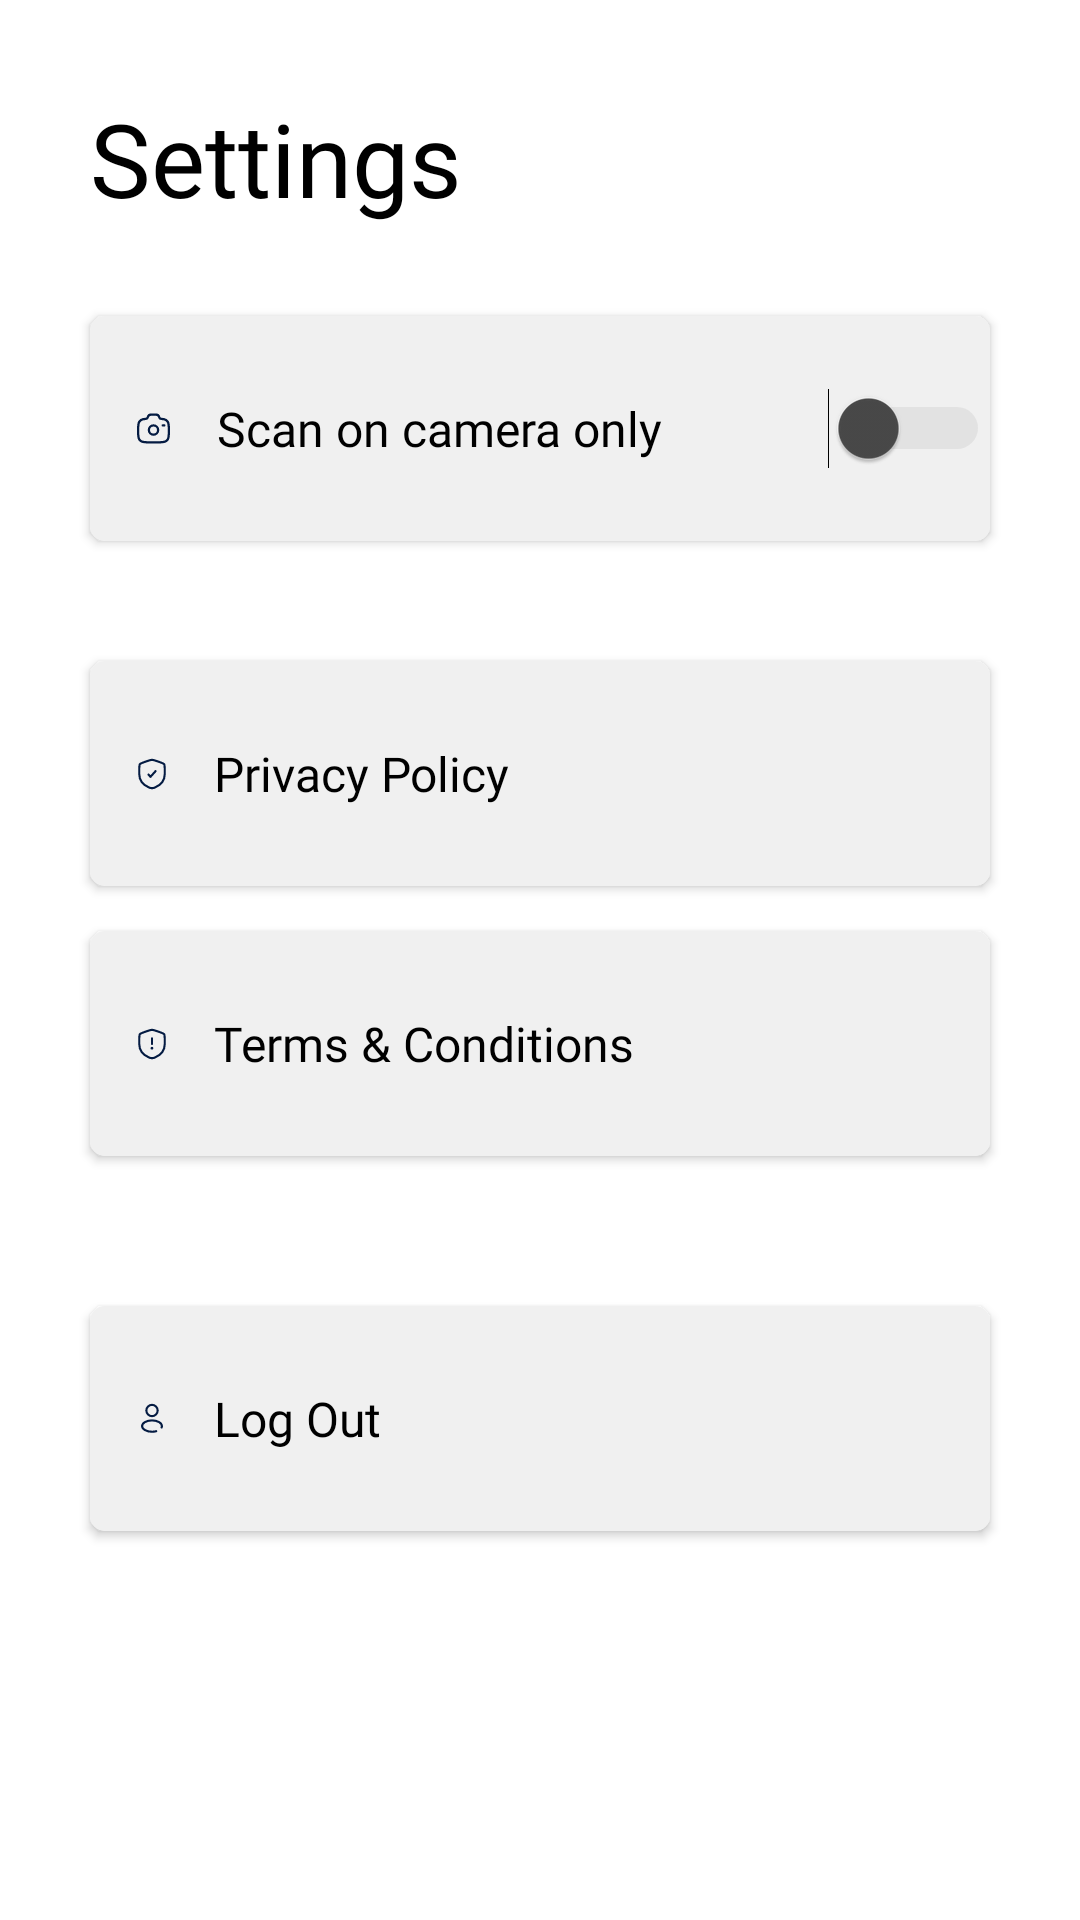

Screen size 1080x1920. Icon name, then its box in pixels as rect(x1, y1, x2, y2):
user: rect(141, 1403, 163, 1433)
